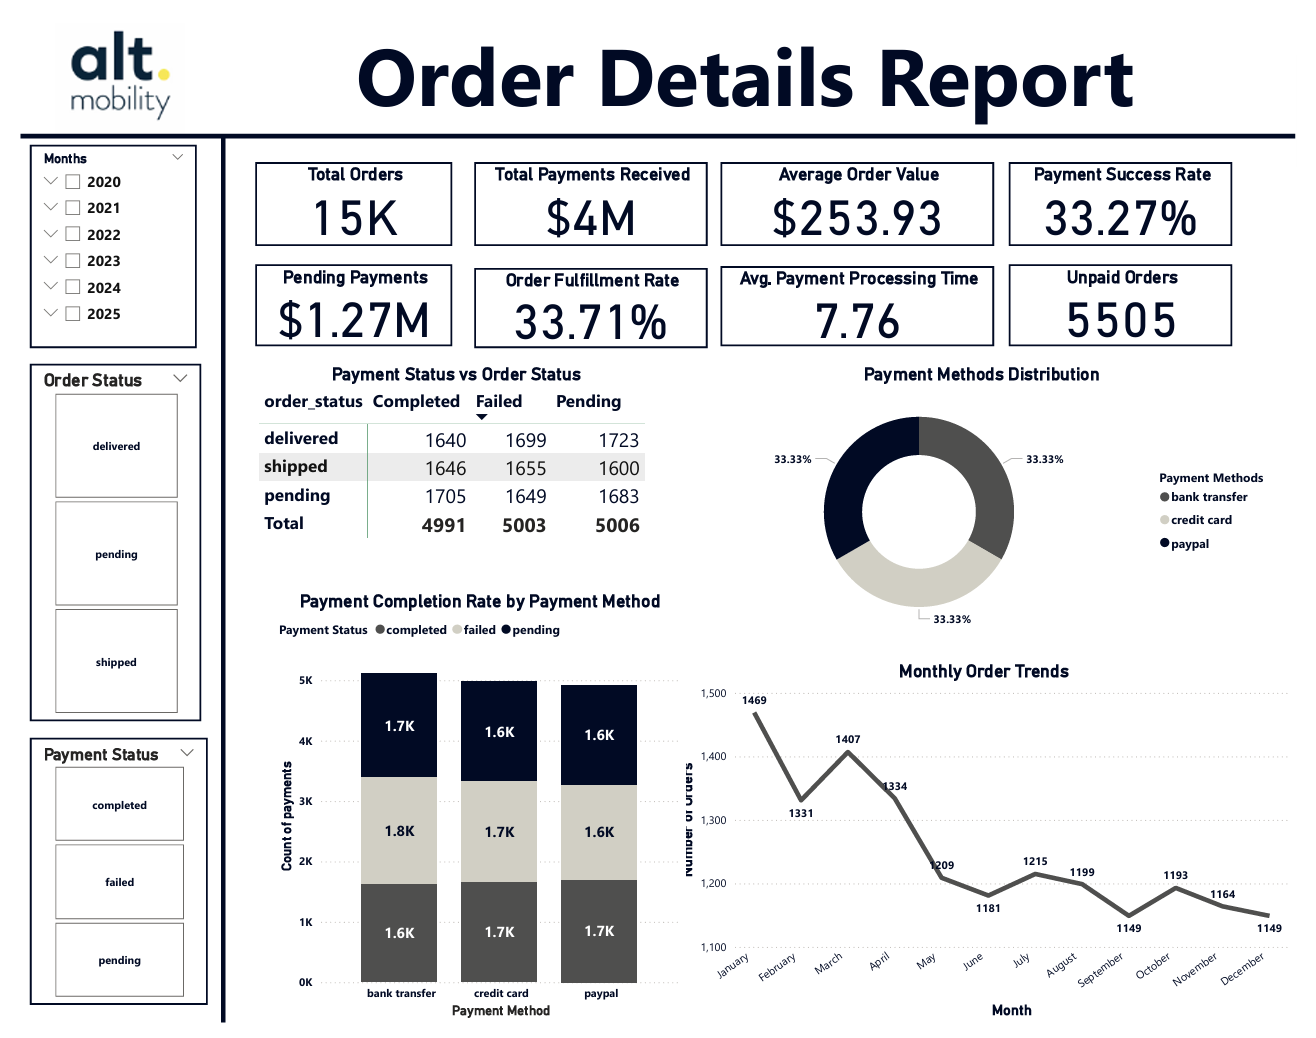

The dashboard page shown, as its layout file describes it:
{"tool":"powerbi","page":{"name":"Order Details","canvas":[1400,1100],"ordinal":0},"visuals":[{"type":"card","title":"Total Orders","fields":{"Values":["CountNonNull(customer_orders.order_id)"]},"box":[259.1,157.2,215.9,91.6],"z":0},{"type":"textbox","box":[196,0,1200.5,157],"z":1000},{"type":"image","box":[0,0,221.1,136.5],"z":2000},{"type":"lineChart","title":"Monthly Order Trends","fields":{"Category":["customer_orders.order_date.Variation.Date Hierarchy.Month"],"Y":["CountNonNull(customer_orders.order_id)"]},"box":[718.6,703,678.9,397.3],"z":3000},{"type":"donutChart","title":"Payment Methods Distribution","fields":{"Category":["payments.payment_method"],"Y":["CountNonNull(customer_orders.order_id)"]},"box":[718.6,378.3,673.7,302.3],"z":4000},{"type":"slicer","fields":{"Values":["customer_orders.order_status"]},"box":[12.1,378.3,188.3,392.1],"z":5000},{"type":"card","title":"Average Order Value","fields":{"Values":["customer_orders.AOV"]},"box":[768.7,157.2,300.6,91.6],"z":6000},{"type":"card","title":"Total Payments Received","fields":{"Values":["Sum(payments.payment_amount)"]},"box":[499.2,157.2,255.7,91.6],"z":7000},{"type":"slicer","fields":{"Values":["customer_orders.order_date.Variation.Date Hierarchy.Year","customer_orders.order_date.Variation.Date Hierarchy.Month"]},"box":[12.1,138.2,183.1,222.8],"z":8000},{"type":"card","title":"Pending Payments","fields":{"Values":["payments.PendingPayments"]},"box":[259.1,269.5,215.9,89.8],"z":9000},{"type":"card","title":"Order Fulfillment Rate","fields":{"Values":["customer_orders.OrderFulfillmentRate"]},"box":[499.2,272.9,255.7,88.1],"z":10000},{"type":"card","title":"Avg. Payment Processing Time","fields":{"Values":["payments.AvgPaymentProcessingTime"]},"box":[768.7,271.2,300.6,88.1],"z":11000},{"type":"card","title":"Unpaid Orders","fields":{"Values":["customer_orders.OrdersWithoutPayment"]},"box":[1084.8,269.5,245.3,89.8],"z":12000},{"type":"card","title":"Payment Success Rate","fields":{"Values":["payments.PaymentSuccessRate"]},"box":[1084.8,157.2,245.3,91.6],"z":13000},{"type":"slicer","fields":{"Values":["payments.payment_status"]},"box":[12.1,787.7,195.2,293.7],"z":14000},{"type":"pivotTable","title":"Payment Status vs Order Status","fields":{"Rows":["customer_orders.order_status"],"Values":["payments.CompletedPayments","payments.FailedPayments","payments.PendingPaymentsCount"]},"box":[259.1,378.3,440.5,215.9],"z":15000},{"type":"columnChart","title":"Payment Completion Rate by Payment Method","fields":{"Series":["payments.payment_status"],"Category":["payments.payment_method"],"Y":["CountNonNull(payments.payment_id)"]},"box":[279.8,627,450.9,473.3],"z":16000},{"type":"shape","box":[1.7,100.2,1397.5,57],"z":17000},{"type":"shape","box":[167.6,129.6,112.3,970.8],"z":18000}]}

Visuals, with their boxes in screenshot pixels (x1, y1, x2, y2), scaled from the page's 1400x1100 canvas onto the 1316x1038 screenshot:
"Total Orders" card: [244, 148, 446, 235]
textbox: [184, 0, 1313, 148]
image: [0, 0, 208, 129]
"Monthly Order Trends" lineChart: [675, 663, 1314, 1037]
"Payment Methods Distribution" donutChart: [675, 357, 1309, 642]
slicer - customer_orders.order_status: [11, 357, 188, 727]
"Average Order Value" card: [723, 148, 1005, 235]
"Total Payments Received" card: [469, 148, 710, 235]
slicer - customer_orders.order_date.Variation.Date Hierarchy.Year x customer_orders.order_date.Variation.Date Hierarchy.Month: [11, 130, 183, 341]
"Pending Payments" card: [244, 254, 446, 339]
"Order Fulfillment Rate" card: [469, 258, 710, 341]
"Avg. Payment Processing Time" card: [723, 256, 1005, 339]
"Unpaid Orders" card: [1020, 254, 1250, 339]
"Payment Success Rate" card: [1020, 148, 1250, 235]
slicer - payments.payment_status: [11, 743, 195, 1020]
"Payment Status vs Order Status" pivotTable: [244, 357, 658, 561]
"Payment Completion Rate by Payment Method" columnChart: [263, 592, 687, 1037]
shape: [2, 95, 1315, 148]
shape: [158, 122, 263, 1037]
